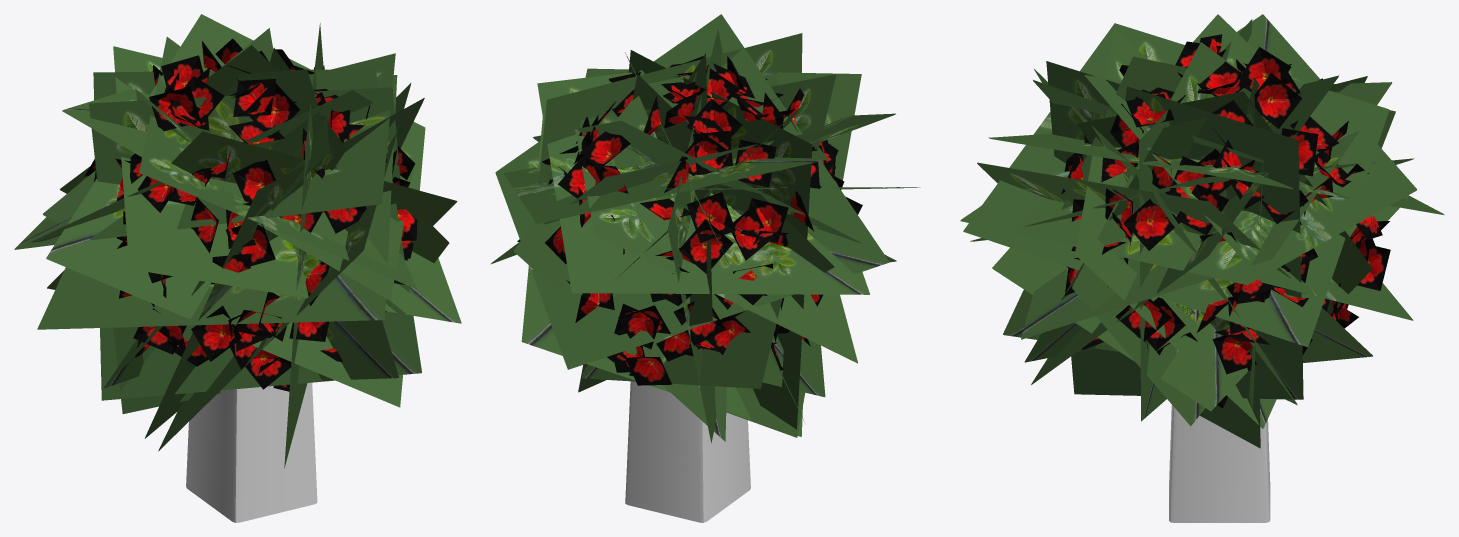
File: flower.fbx
3 renders of one model, left to right at view 1: azimuth 30°, elevation 25°; view 2: azimuth 150°, elevation 25°; view 3: azimuth 270°, elevation 25°, orthographic. The views are drawn at different scales.
Visible parts, largest first — view 1: Plane013, Plane012, Box001; view 2: Plane013, Plane012, Box001; view 3: Plane013, Plane012, Box001.
Boxes of the visible parts, x1=… form: Plane013: x1=14, y1=14, x2=461, y2=468; Plane012: x1=84, y1=38, x2=417, y2=391; Box001: x1=186, y1=382, x2=317, y2=522; Plane013: x1=490, y1=14, x2=920, y2=443; Plane012: x1=517, y1=56, x2=862, y2=385; Box001: x1=625, y1=381, x2=750, y2=522; Plane013: x1=960, y1=14, x2=1444, y2=448; Plane012: x1=1061, y1=34, x2=1390, y2=407; Box001: x1=1169, y1=404, x2=1270, y2=522.
Bounding box in the file's own units: 489 × 540 × 520.
